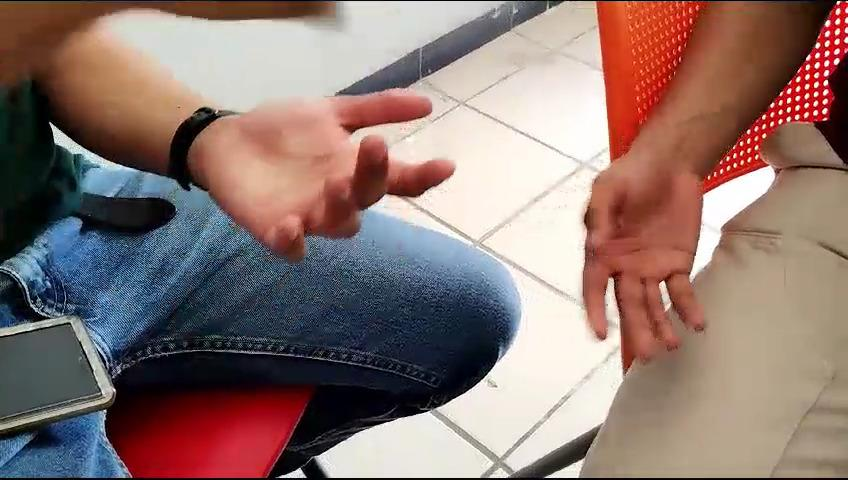Paper: (546, 144, 771, 389)
